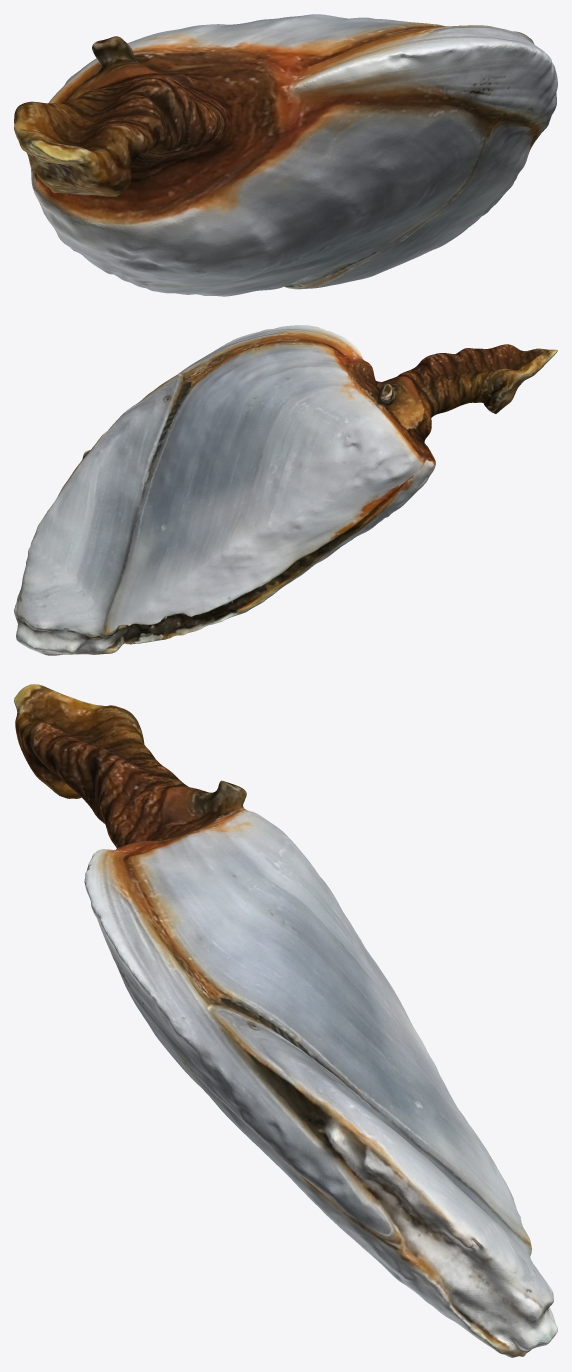
The model's file is MZUR3D-006.glb.
The picture shows the model from 3 angles, top to bottom: view 1: azimuth 30°, elevation 25°; view 2: azimuth 150°, elevation 25°; view 3: azimuth 270°, elevation 25°; orthographic projection. The views are drawn at different scales.
Visible parts, largest first — view 1: MZUR3D-006; view 2: MZUR3D-006; view 3: MZUR3D-006.
Part boxes in pixels (x1,y1,x2,y2): MZUR3D-006: (14,14,557,296); MZUR3D-006: (14,325,557,655); MZUR3D-006: (14,684,557,1357).
Size of the model in its own units: 0.3054 by 0.2008 by 0.2436.
Materials: 1 (1 with a texture image).
